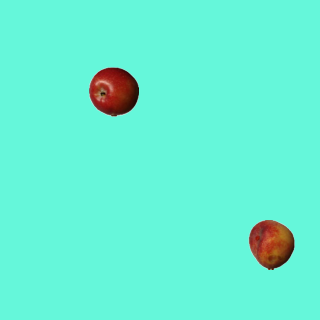Apple Braeburn: (88, 66, 138, 116)
Peach: (246, 219, 296, 269)
